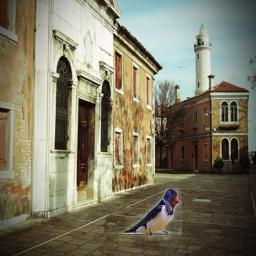Swallow: (113, 188, 182, 242)
